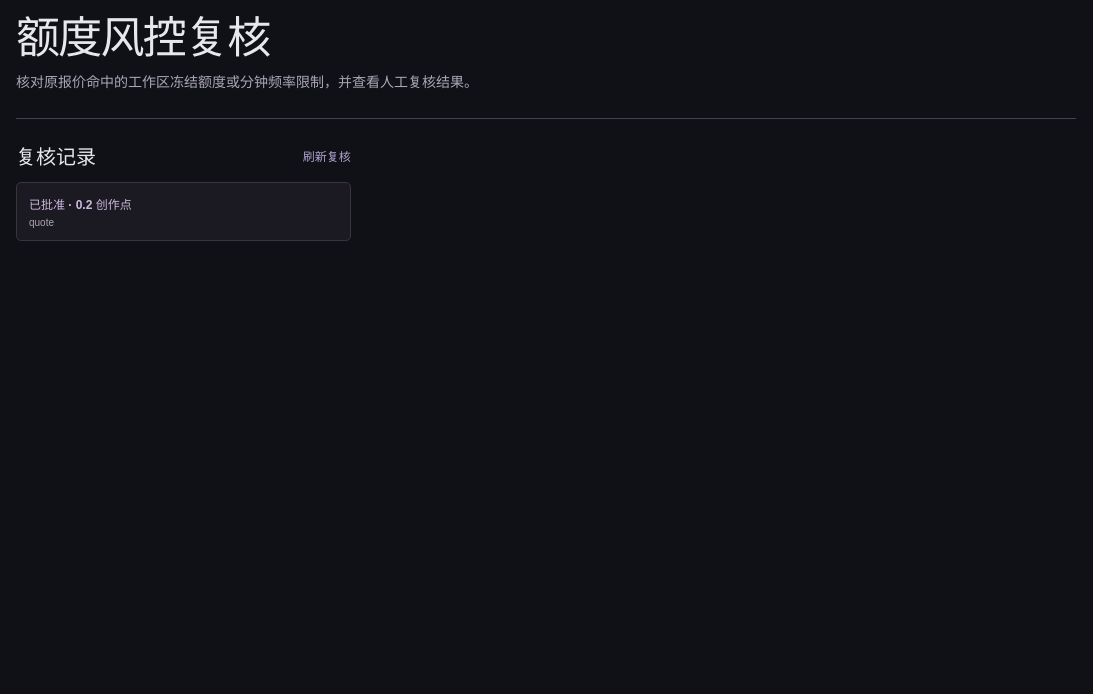
Test case: blocks an explicit replay for server exemption EXPIRED
Click the button "已批准 · 0.2 创作点 quote" at (47, 205), box 16,182 -> 351,241
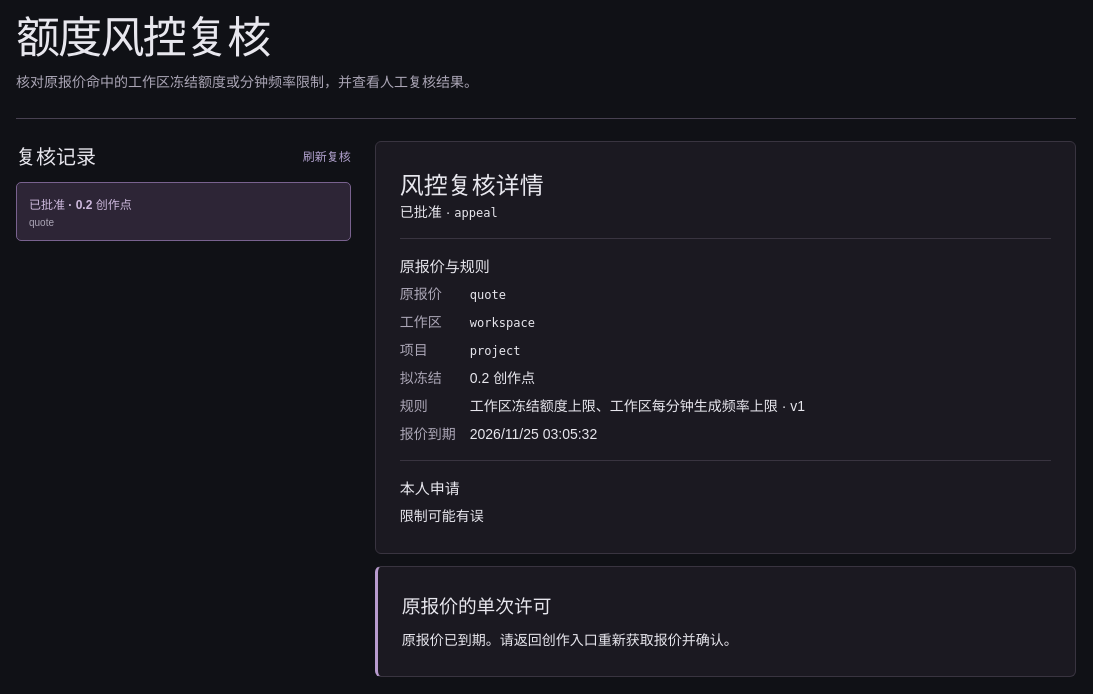
expect the text "已到期" is shown: met, box 402,632 -> 738,648
